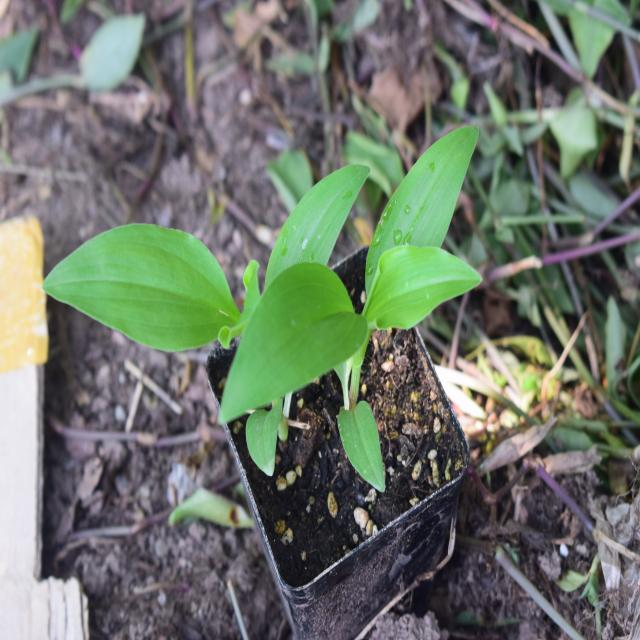Common Dayflower: (230, 120, 493, 472), (52, 210, 229, 346)
